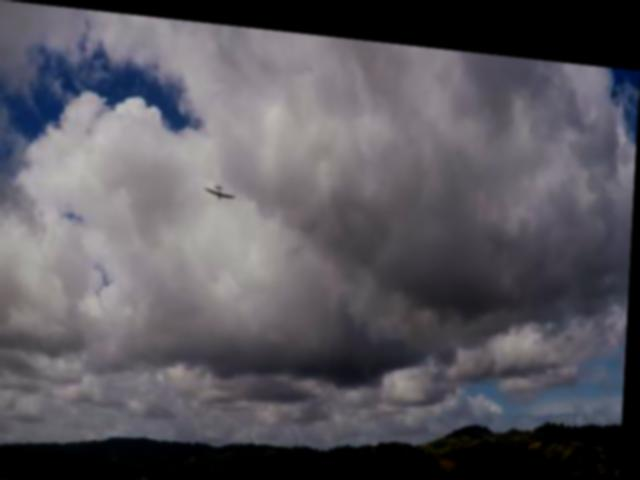uav: (202, 172, 238, 199)
